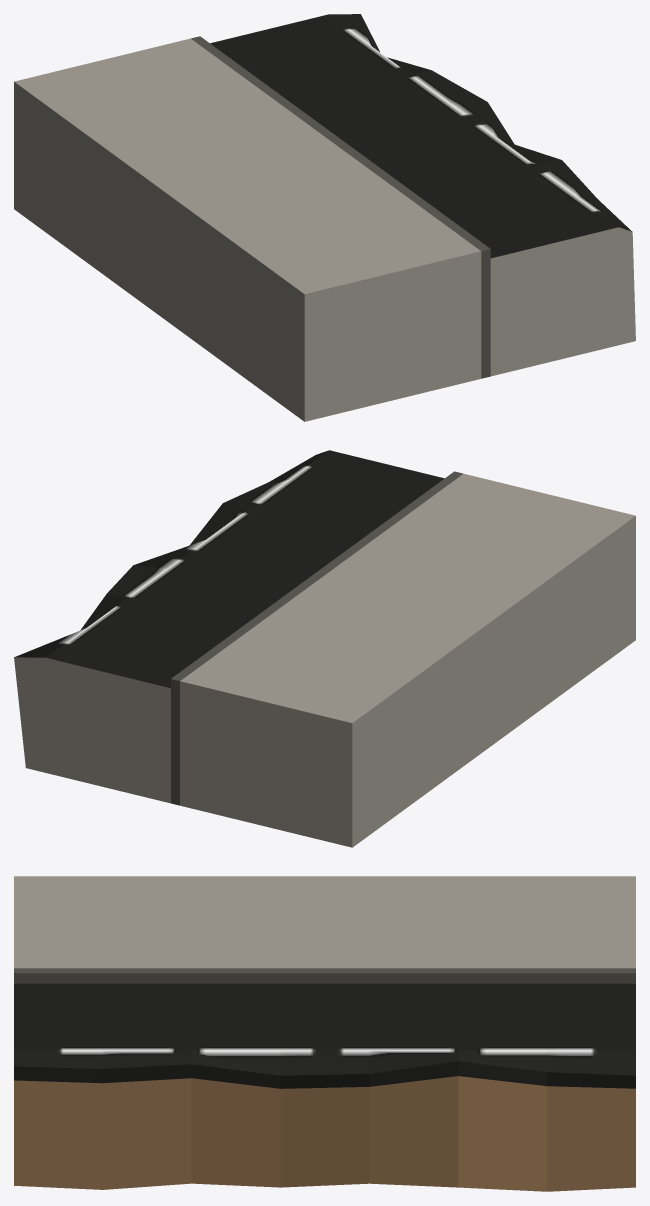
File: Road_Rooad08.fbx
3 renders of one model, top to bottom at view 1: azimuth 30°, elevation 25°; view 2: azimuth 150°, elevation 25°; view 3: azimuth 270°, elevation 25°, orthographic. The views are drawn at different scales.
Visible parts, largest first — view 1: Road_Rooad08; view 2: Road_Rooad08; view 3: Road_Rooad08.
Part boxes in pixels (bbox=[...]): Road_Rooad08: bbox=[14, 14, 635, 421]; Road_Rooad08: bbox=[14, 450, 635, 847]; Road_Rooad08: bbox=[14, 876, 635, 1191].
Size of the model in its own units: 942 by 329 by 1359.
